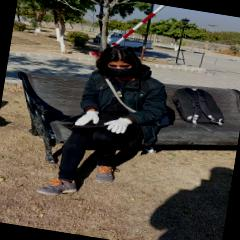gloved: (102, 116, 132, 136), (74, 109, 100, 130)
